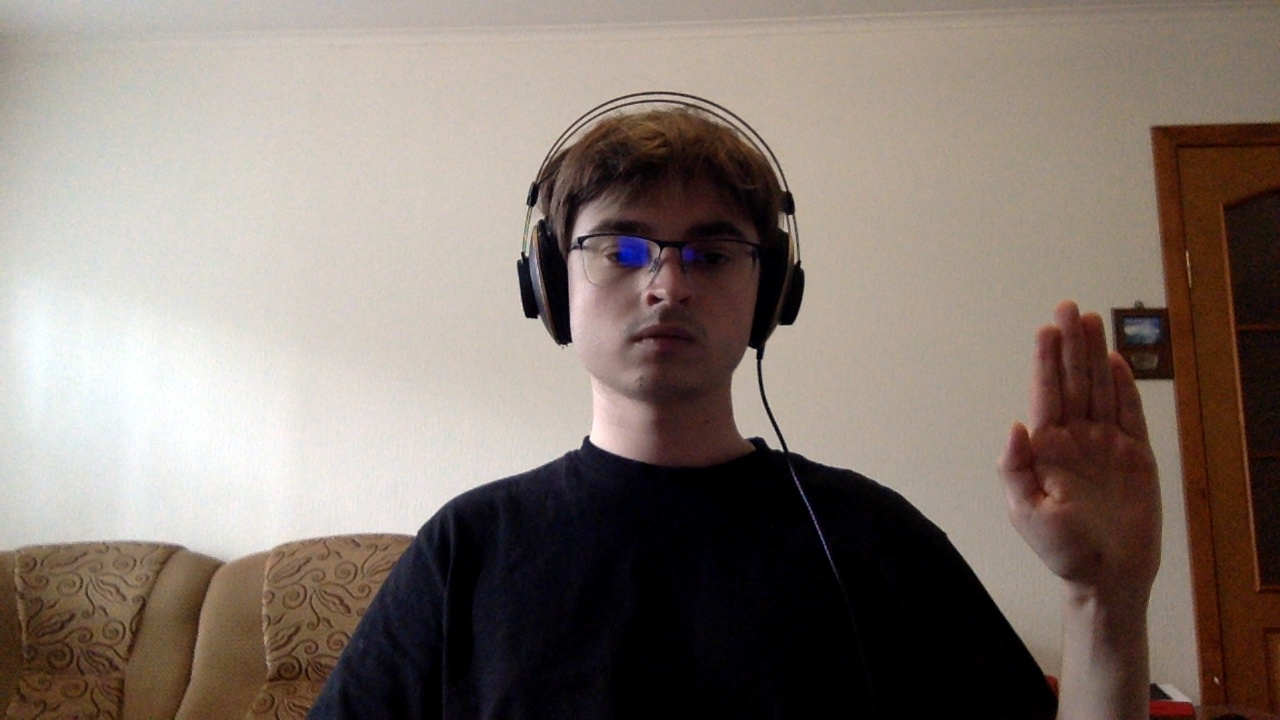hello: (961, 285, 1219, 615)
